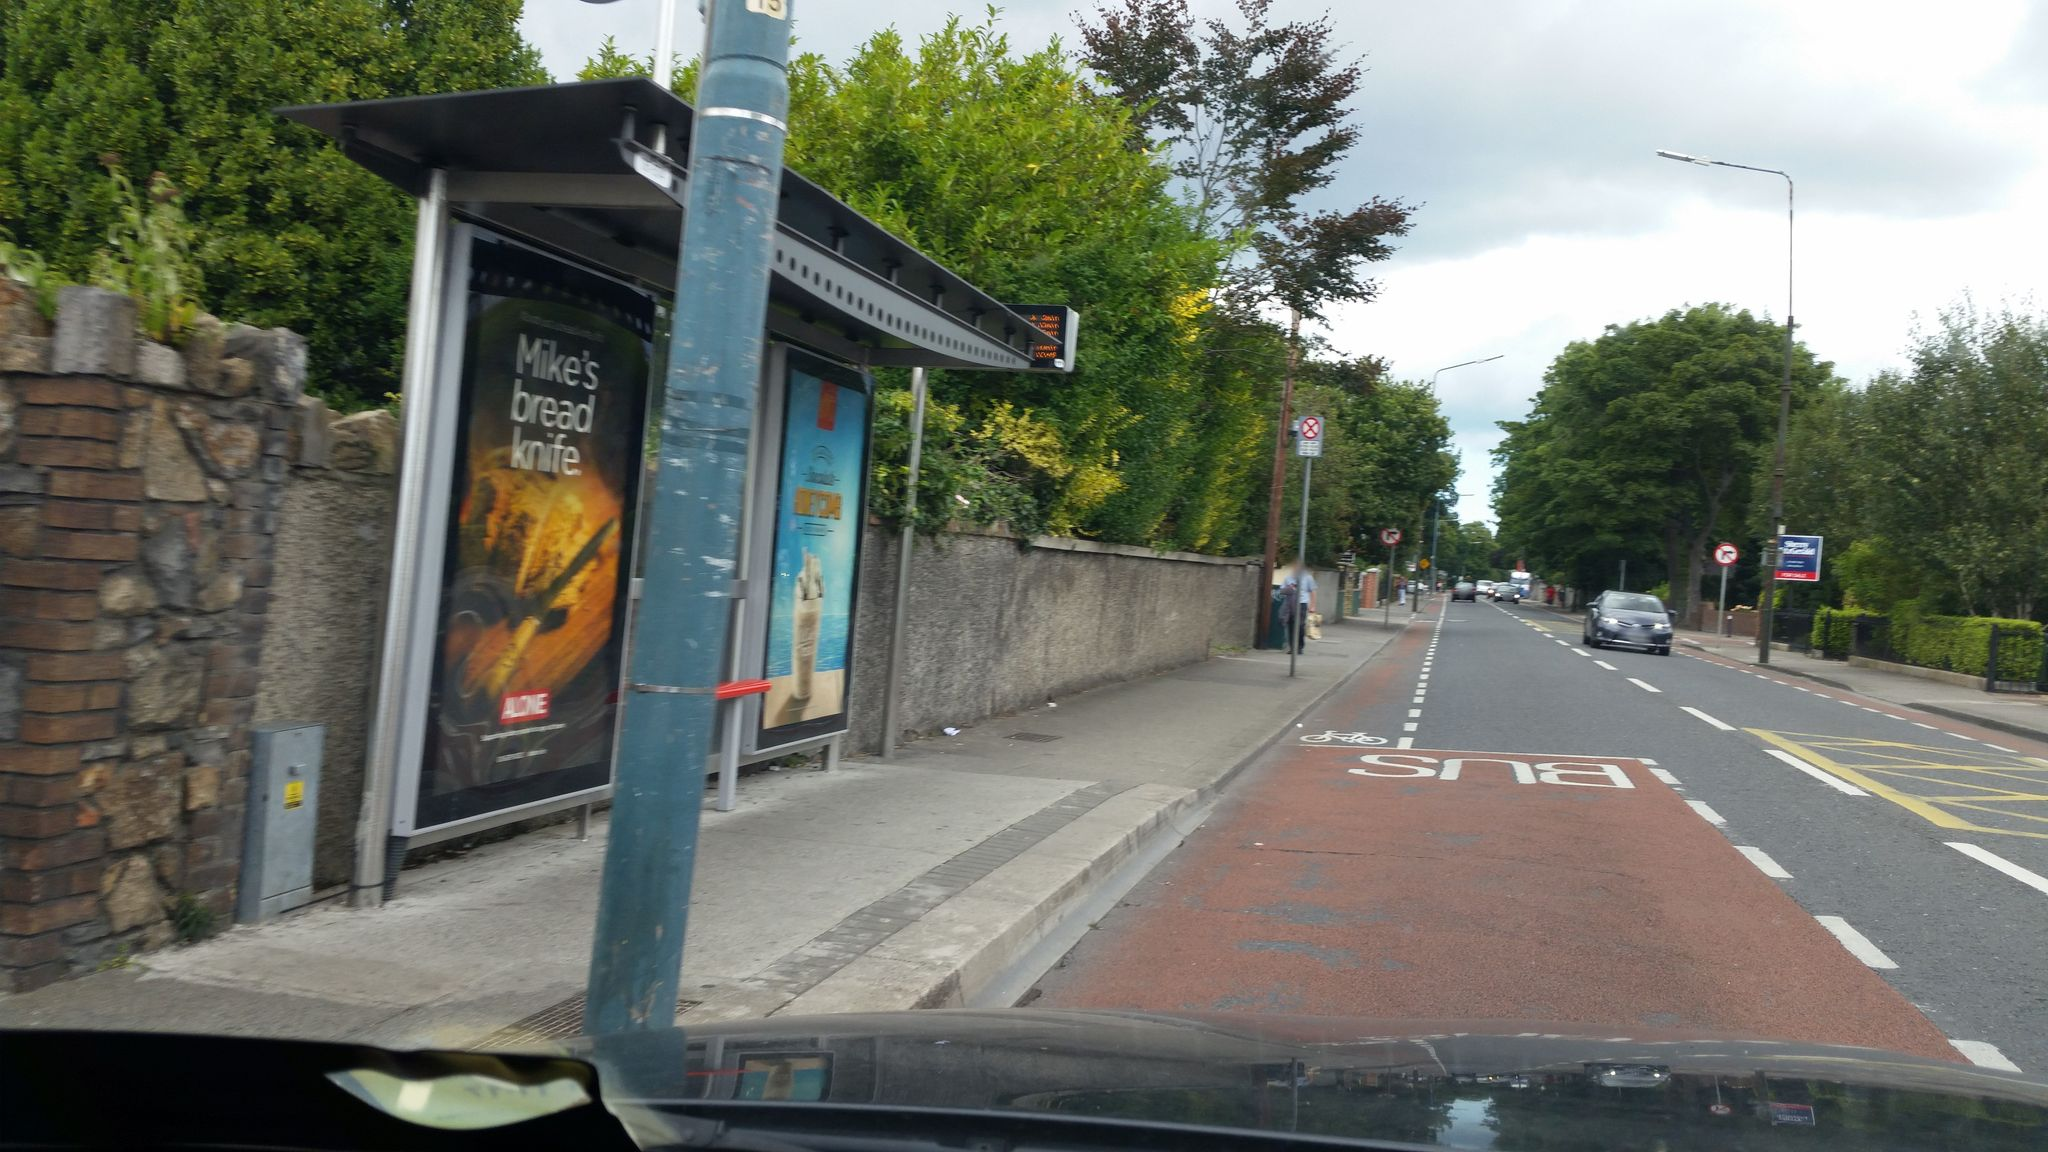property sign: (1767, 525, 1829, 587)
